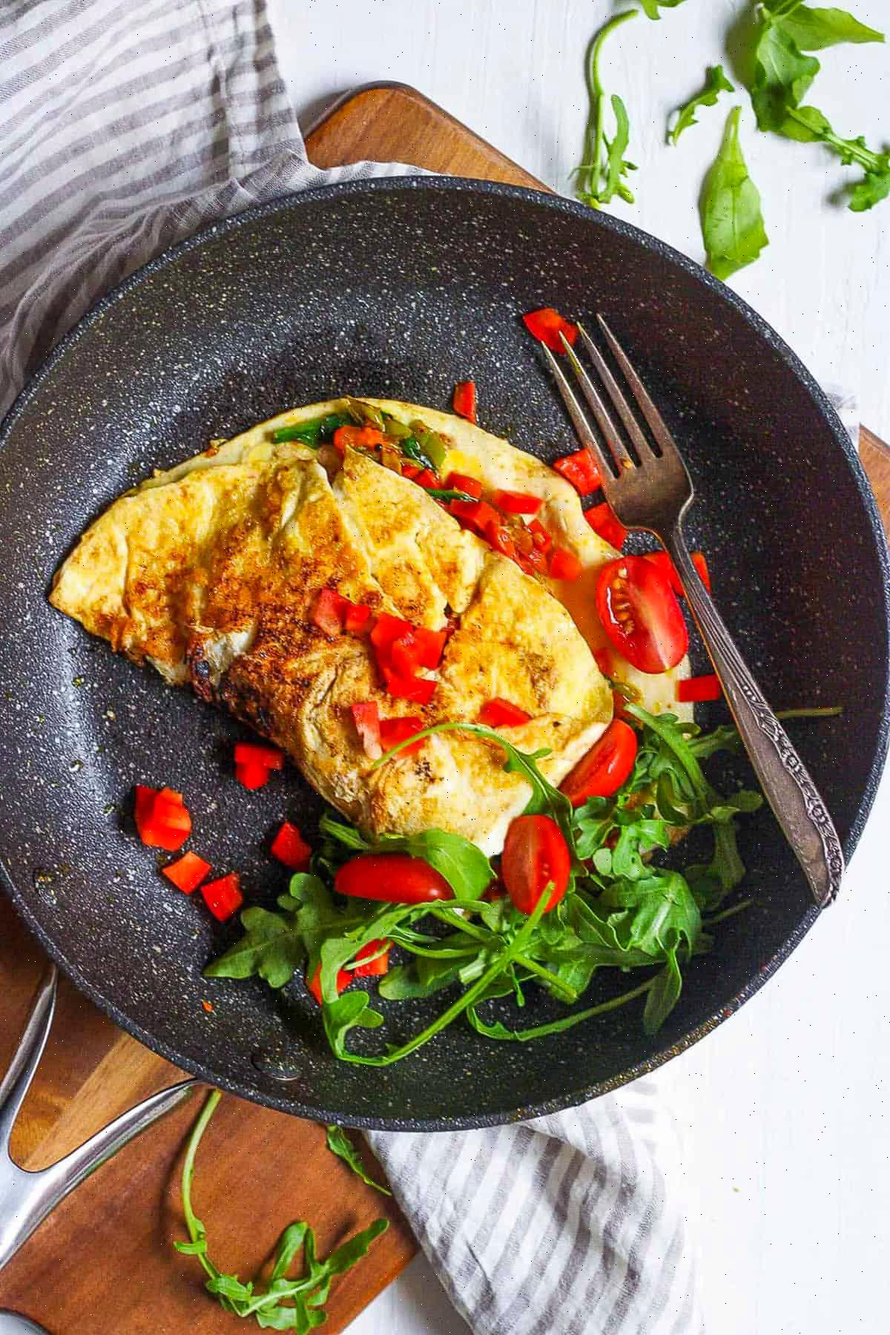omelette: (101, 409, 703, 876)
salad: (216, 824, 774, 1066)
